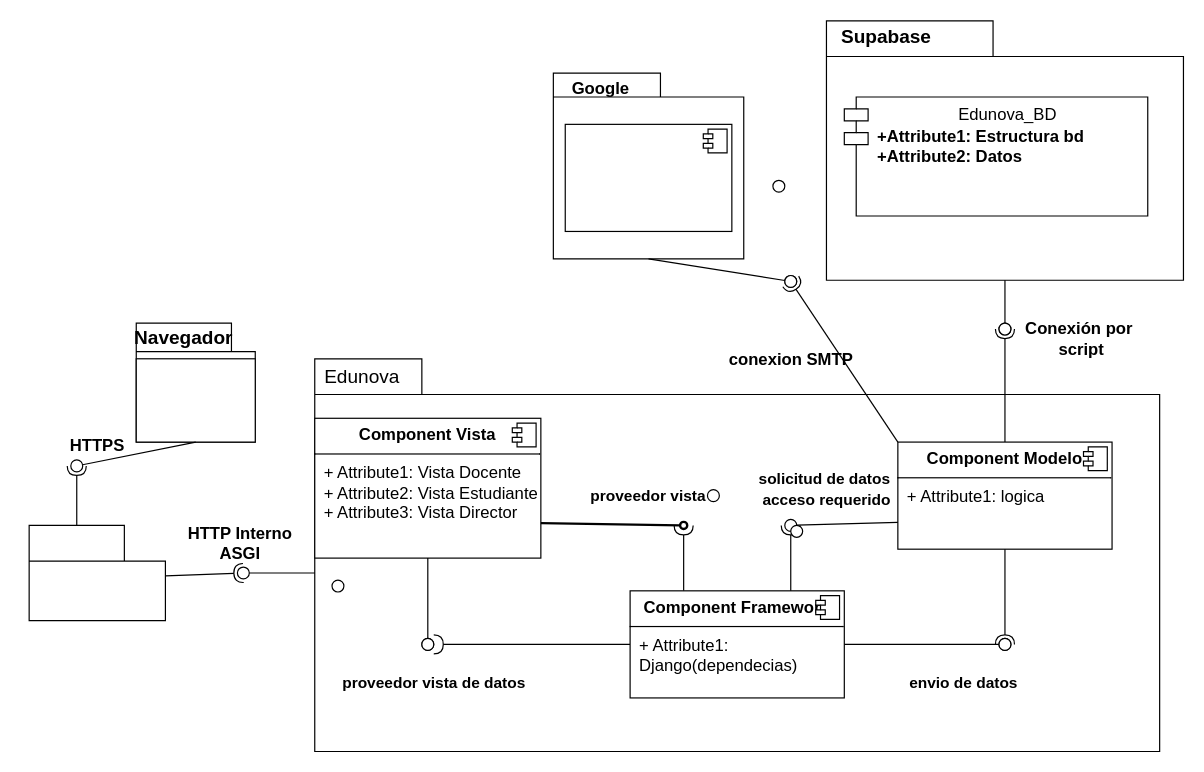
Image size: 1204x772. Some labels were removed from this diagram. Here are the shapes that lost their labels. From the top down, the centre of each, then its label:
pixel 648 177: Gmail +Comunicacion correo electronico
pixel 96 572: Render
